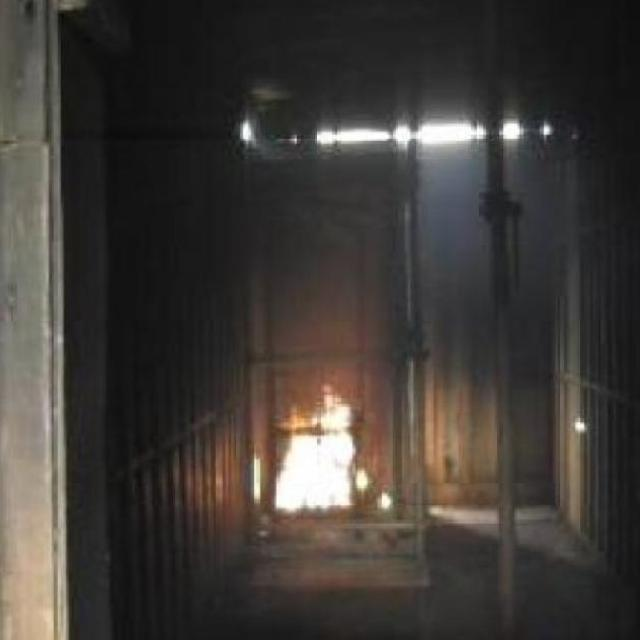smoke: (229, 379, 390, 529)
